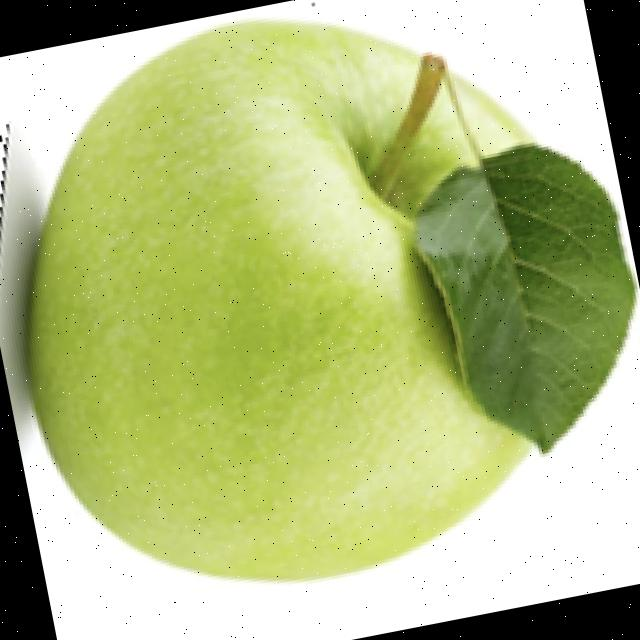apple: (0, 15, 640, 588)
